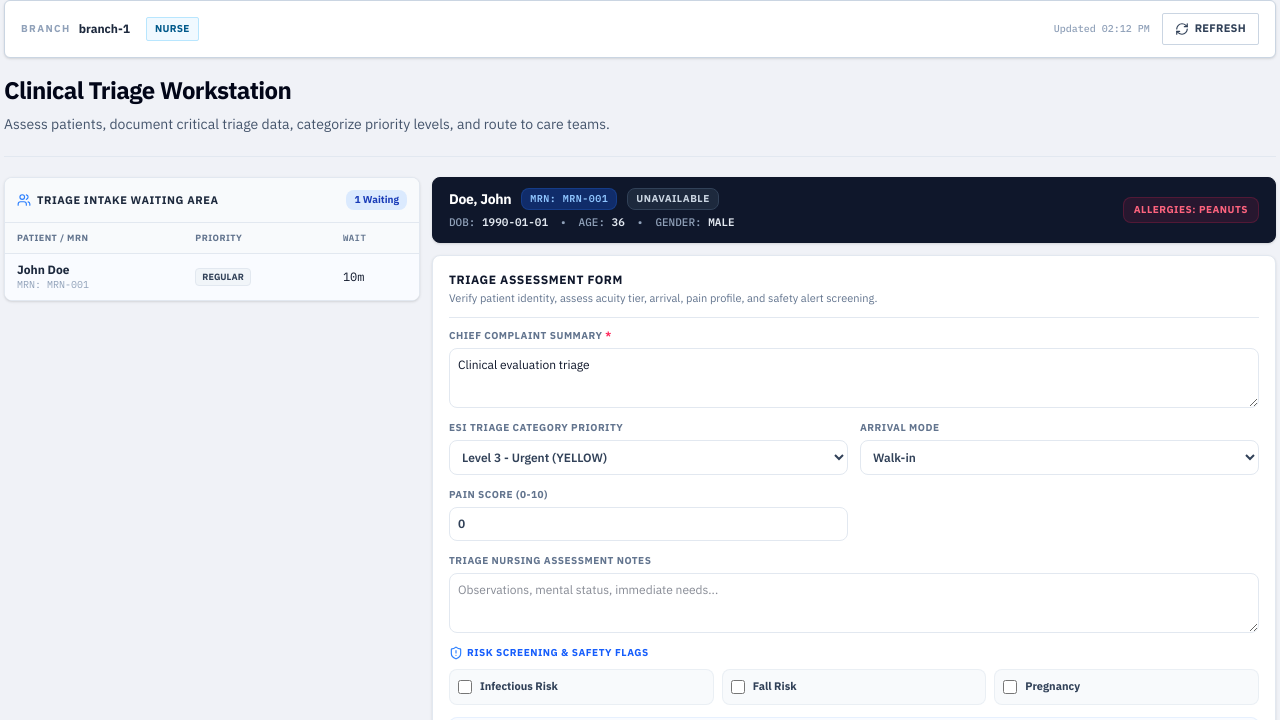
Test: NurseTriageQueuePage › renders triage workstation and allows successful submission
This screenshot has width=1280, height=720.
Expected: the text "John Doe" is shown, [17,262,70,277]
Replace the text in the text box with placeholder "Brief summary of patient's primary complaint..." with "Severe headache" at coordinates (854, 378), box [449,348,1259,408]
(page scrolled)
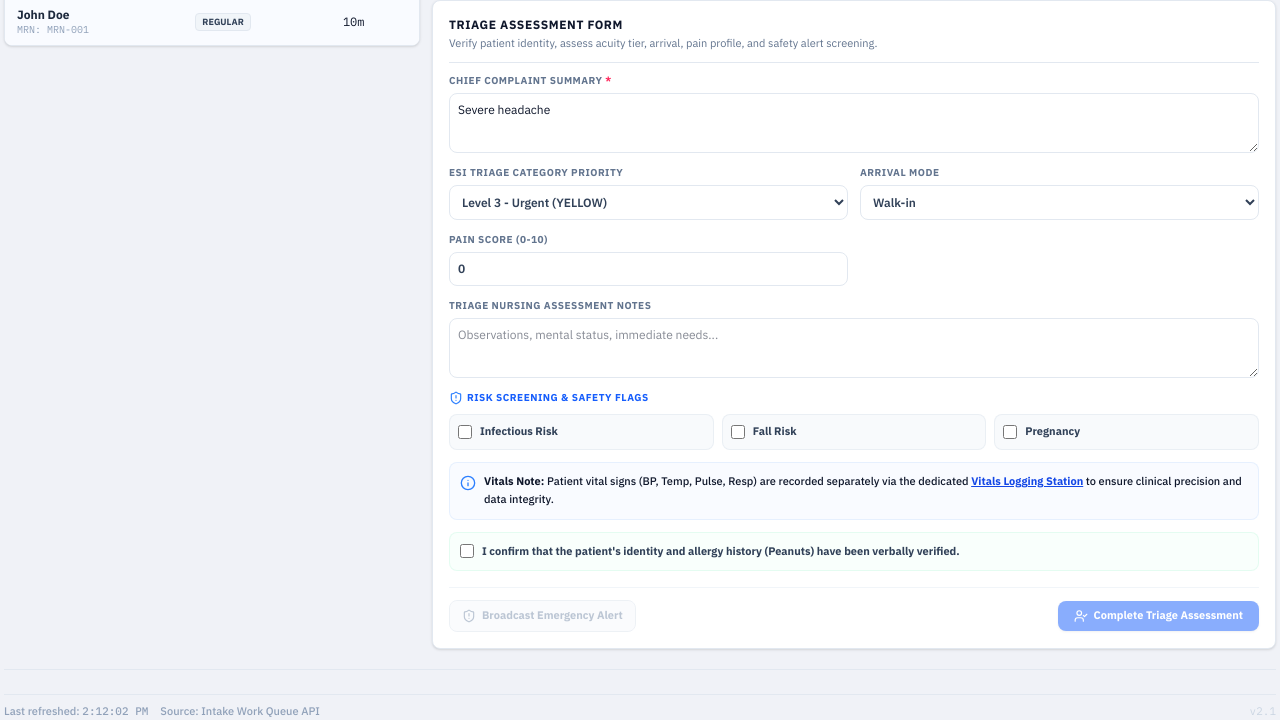
Click the checkbox labelled "I confirm" at coordinates (467, 551), box [460,544,474,558]
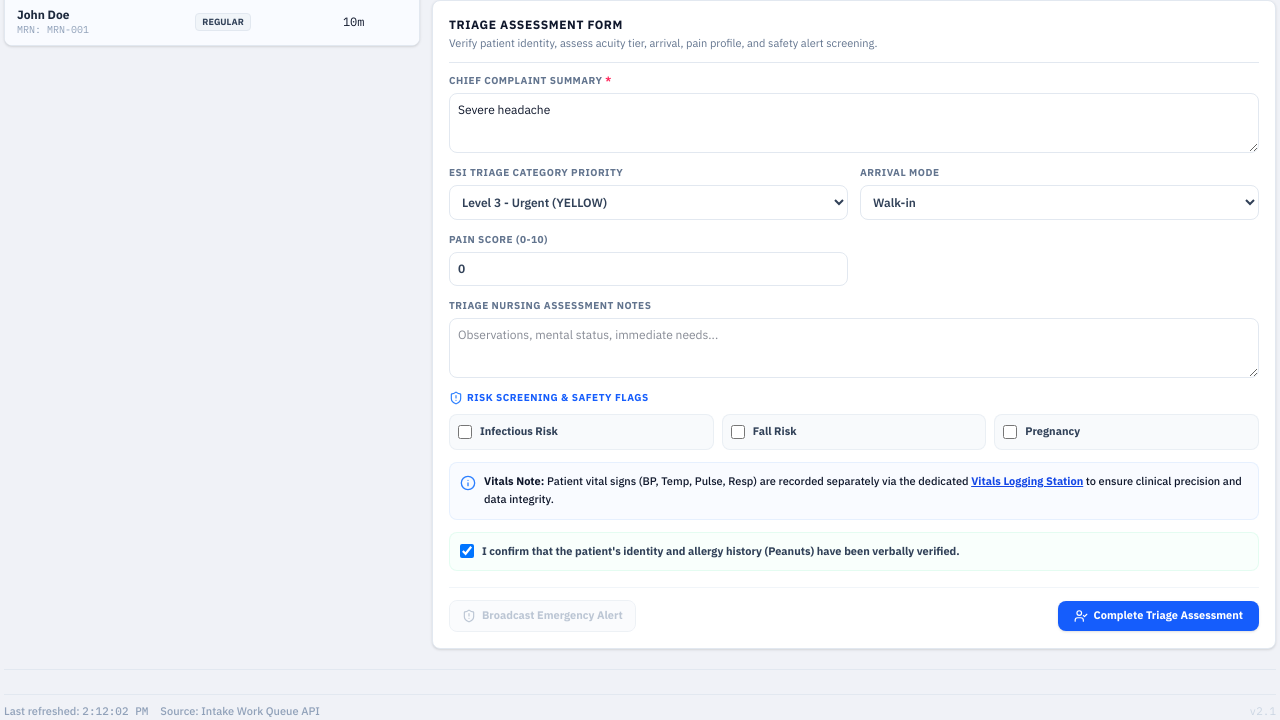
Click the button "Complete Triage Assessment" at coordinates (1158, 616), box [1058,601,1259,631]
(page scrolled)
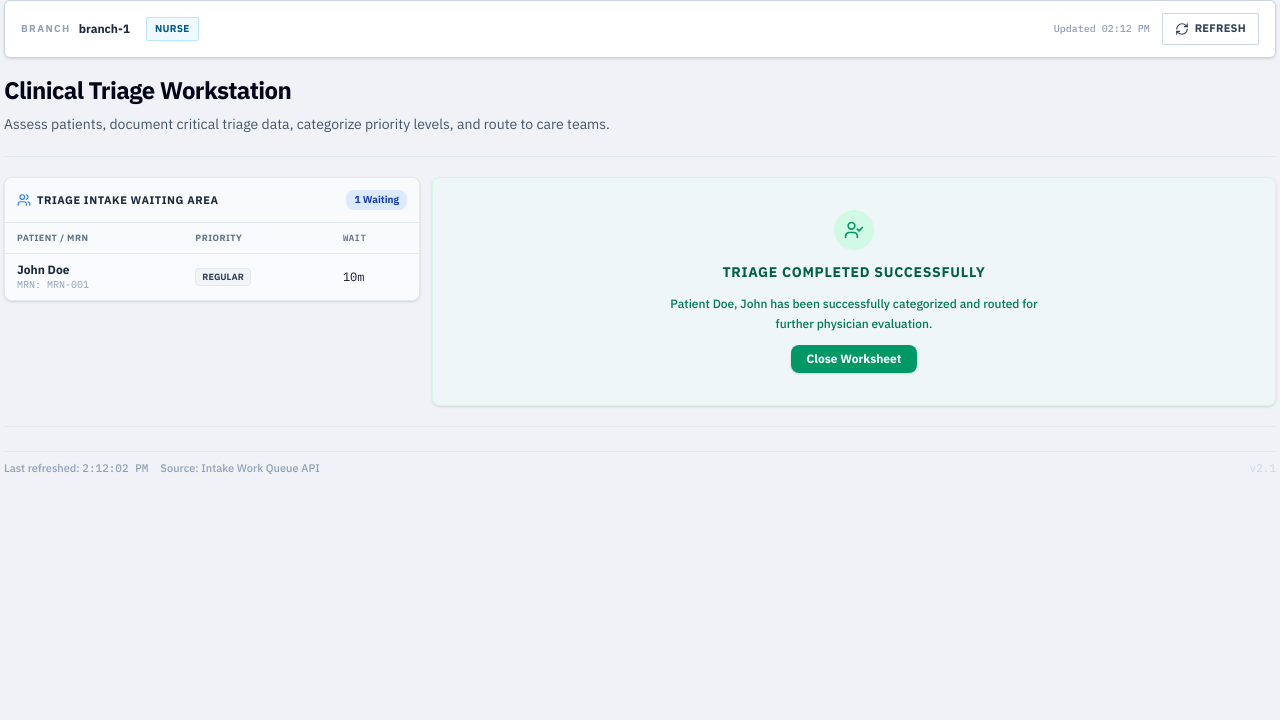
Now the heading "Triage Completed Successfully" is shown, box [722,262,986,282]
